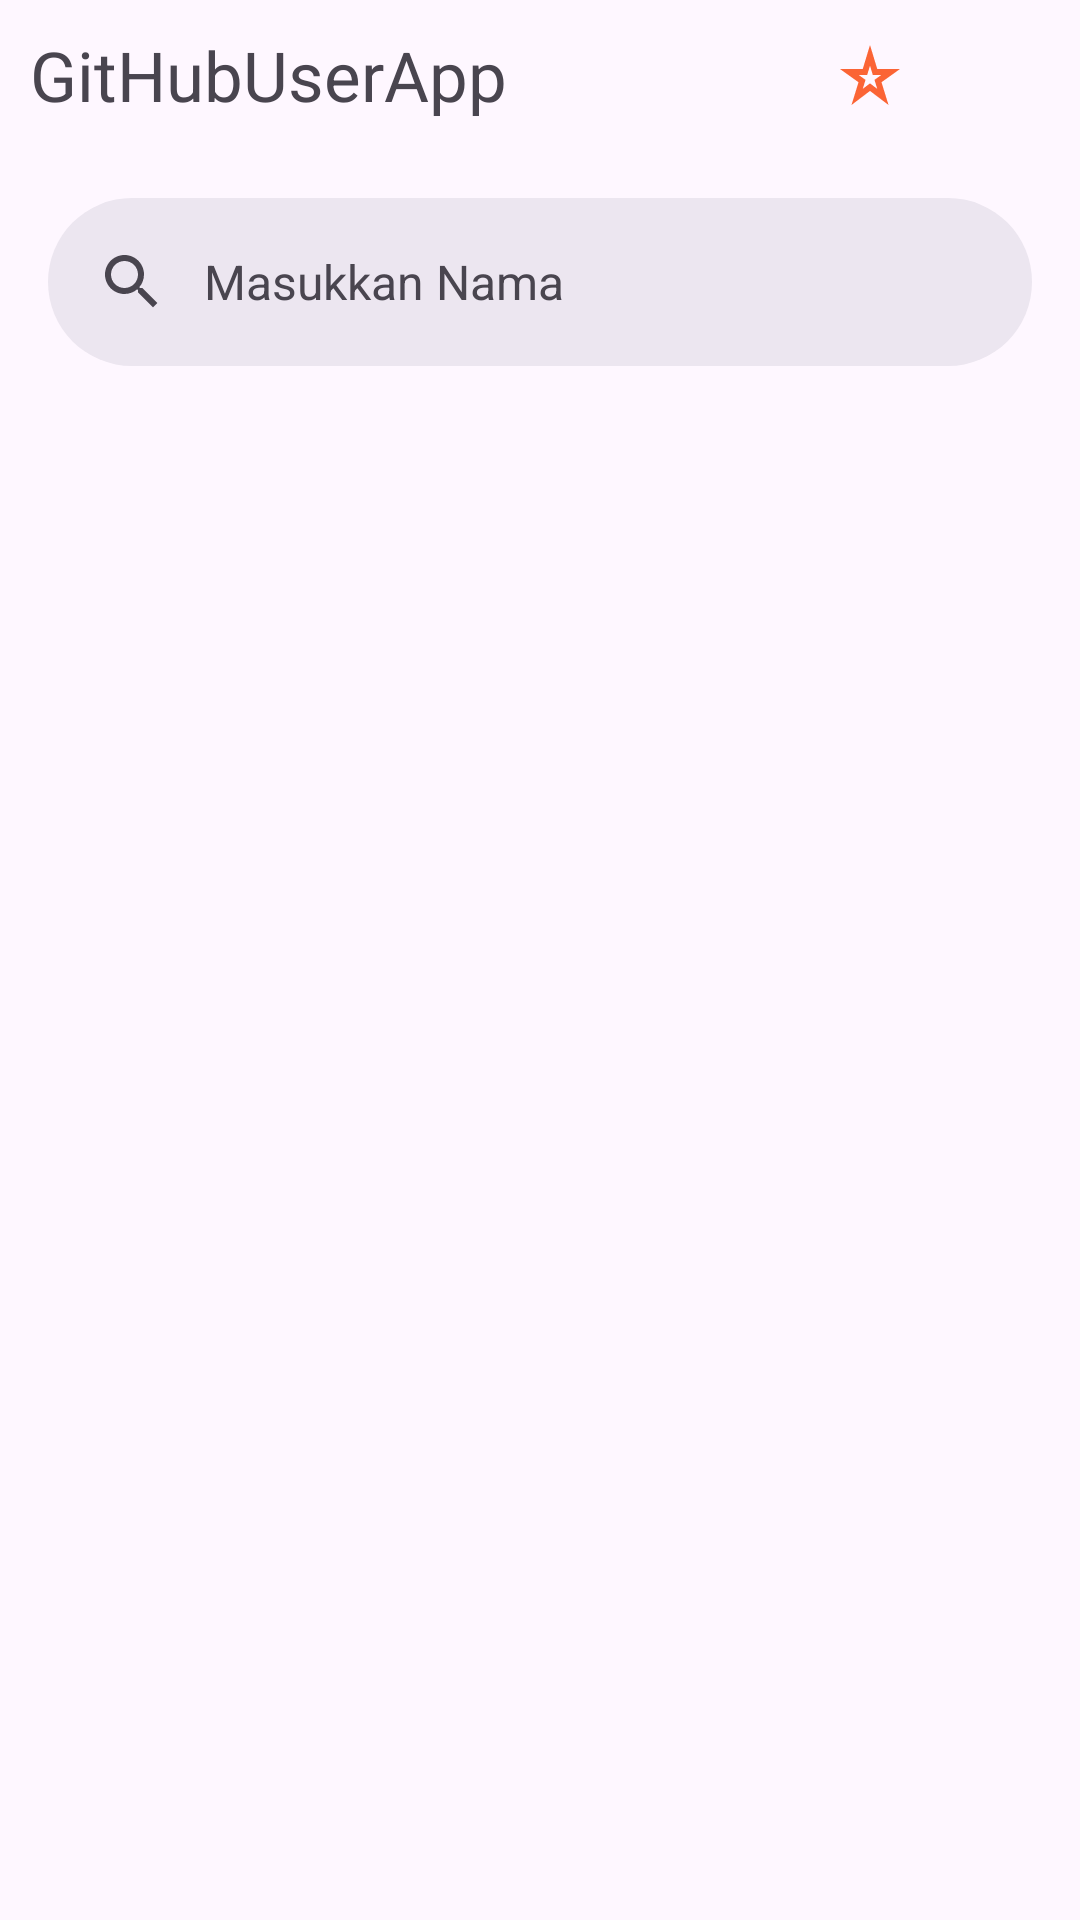

Locate icon controls on the screen. Image size 1080px x 1920px, boxes as (x1, y1, x2, y2).
List Favorite: (840, 45, 900, 105)
